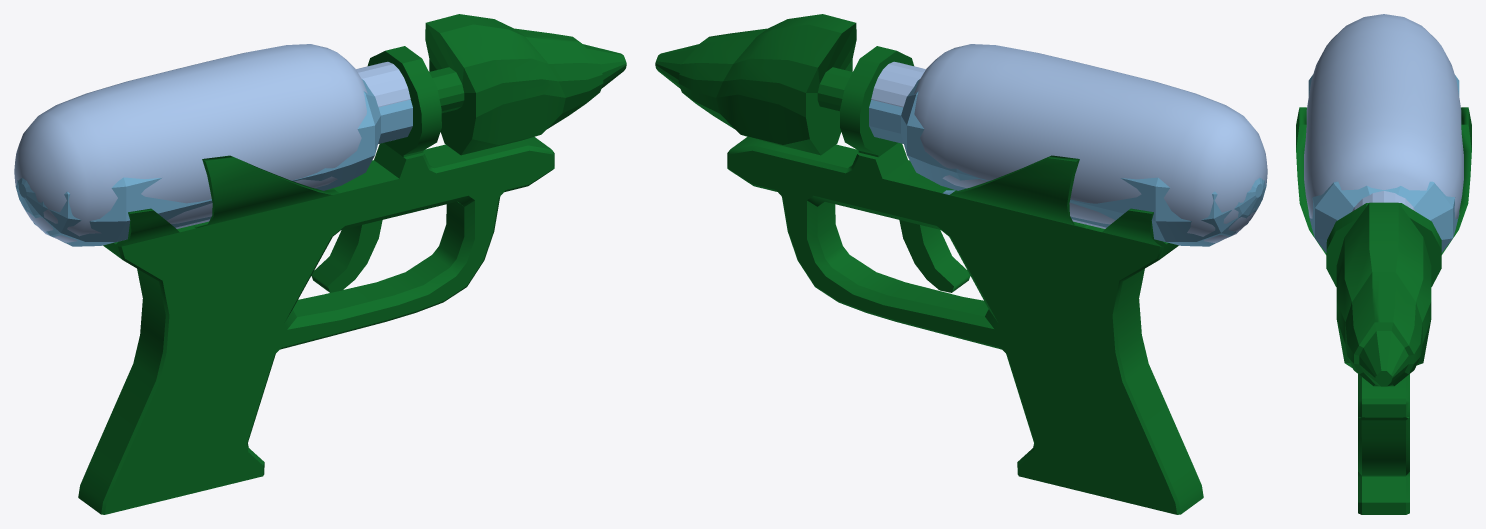
File: WaterGun.fbx
3 renders of one model, left to right at view 1: azimuth 30°, elevation 25°; view 2: azimuth 150°, elevation 25°; view 3: azimuth 270°, elevation 25°, orthographic.
Parts seen in each view (by area): view 1: pCube2; view 2: pCube2; view 3: pCube2.
Part boxes in pixels (left/top/right/bottom): pCube2: left=14, top=14, right=626, bottom=514; pCube2: left=655, top=14, right=1267, bottom=514; pCube2: left=1296, top=14, right=1471, bottom=514.
Bounding box in the file's own units: 21.05 × 13.65 × 5.25.
